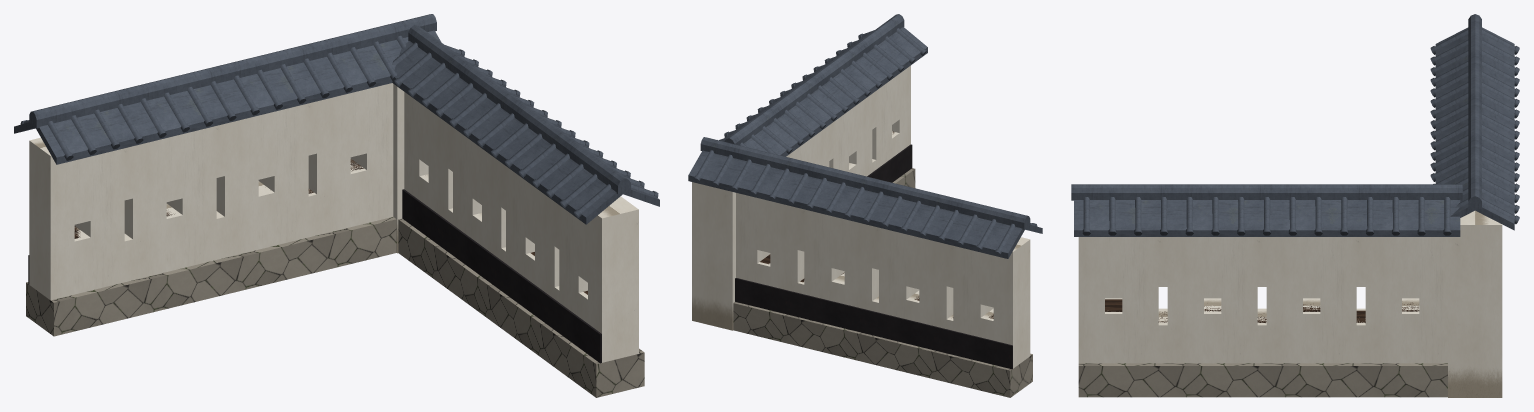
Rendered from HO_Wall_Castle_Corner.fbx.
The picture shows the model from 3 angles, left to right: view 1: azimuth 30°, elevation 25°; view 2: azimuth 150°, elevation 25°; view 3: azimuth 270°, elevation 25°; orthographic projection. The views are drawn at different scales.
Parts seen in each view (by area): view 1: HO_Wall_Castle_Corner__Plaster_White, HO_Wall_Castle_Corner__RoofTile_Clay, HO_Wall_Castle_Corner__Stone_Fitted, HO_Wall_Castle_Corner__Black_Lacquer; view 2: HO_Wall_Castle_Corner__Plaster_White, HO_Wall_Castle_Corner__RoofTile_Clay, HO_Wall_Castle_Corner__Stone_Fitted, HO_Wall_Castle_Corner__Black_Lacquer; view 3: HO_Wall_Castle_Corner__Plaster_White, HO_Wall_Castle_Corner__RoofTile_Clay, HO_Wall_Castle_Corner__Stone_Fitted, HO_Wall_Castle_Corner__Timber_Dark.
Boxes of the visible parts, bbox=[...] form: HO_Wall_Castle_Corner__Plaster_White: bbox=[29, 83, 638, 362]; HO_Wall_Castle_Corner__RoofTile_Clay: bbox=[14, 14, 659, 224]; HO_Wall_Castle_Corner__Stone_Fitted: bbox=[26, 217, 644, 397]; HO_Wall_Castle_Corner__Black_Lacquer: bbox=[28, 189, 601, 363]; HO_Wall_Castle_Corner__Plaster_White: bbox=[692, 65, 1030, 368]; HO_Wall_Castle_Corner__RoofTile_Clay: bbox=[688, 14, 1042, 258]; HO_Wall_Castle_Corner__Stone_Fitted: bbox=[733, 168, 1032, 397]; HO_Wall_Castle_Corner__Black_Lacquer: bbox=[735, 144, 1012, 369]; HO_Wall_Castle_Corner__Plaster_White: bbox=[1078, 210, 1502, 397]; HO_Wall_Castle_Corner__RoofTile_Clay: bbox=[1071, 14, 1519, 236]; HO_Wall_Castle_Corner__Stone_Fitted: bbox=[1078, 363, 1447, 397]; HO_Wall_Castle_Corner__Timber_Dark: bbox=[1105, 299, 1419, 322].
Size of the model in its own units: 18.09 by 8.99 by 18.09.
